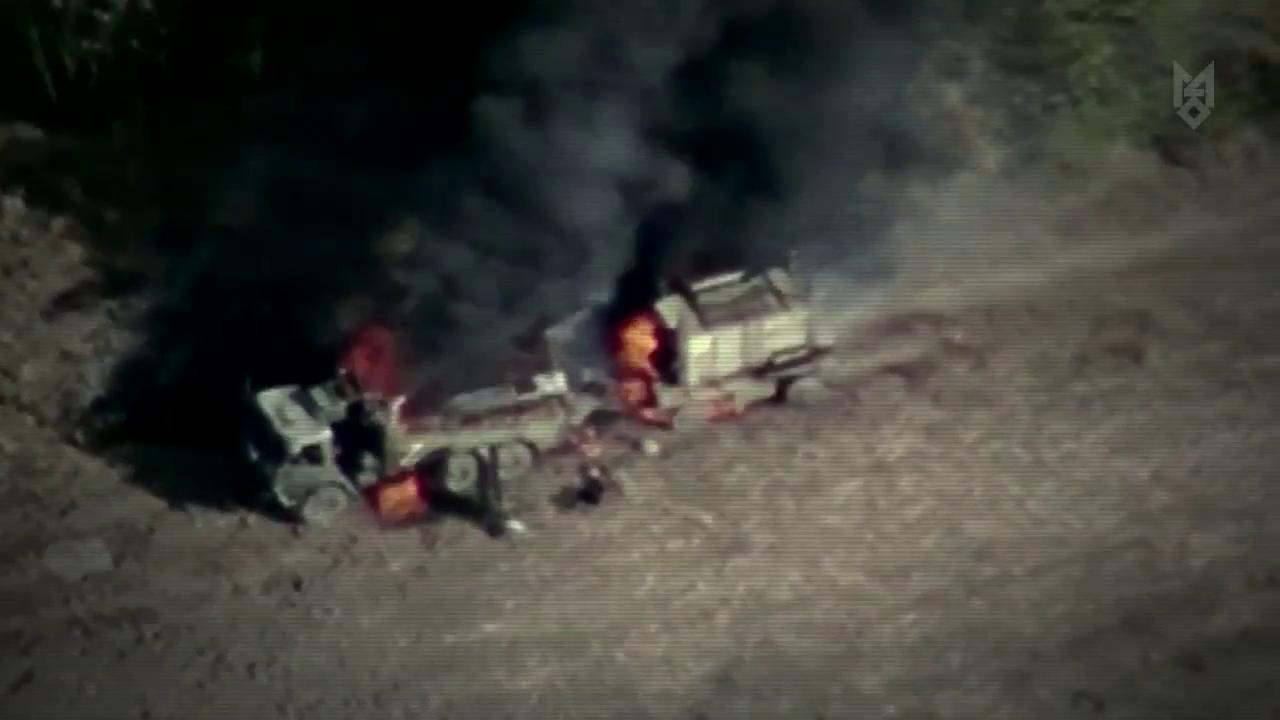tank: (246, 326, 588, 527), (620, 260, 851, 436)
